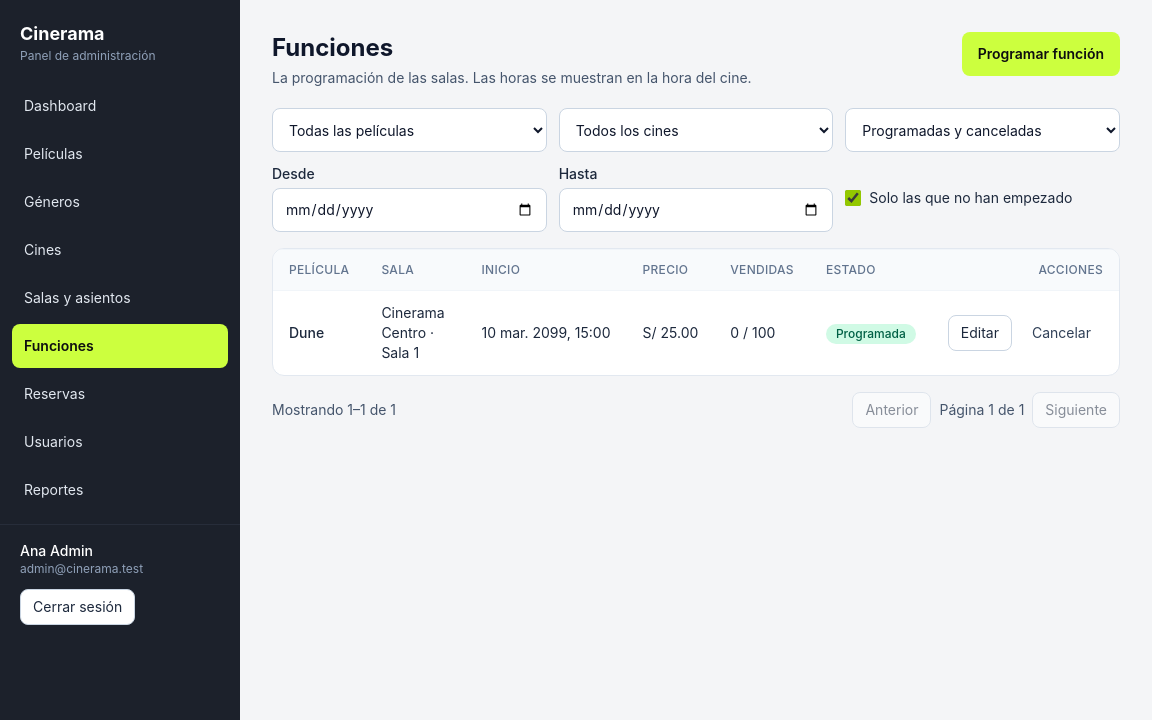
Test: Funciones › "Cancelar" del diálogo (volver) no cancela la función
This screenshot has width=1152, height=720.
Click the button with aria-label "Cancelar la función de Dune". click: (1062, 333)
box: [1020,315,1103,351]
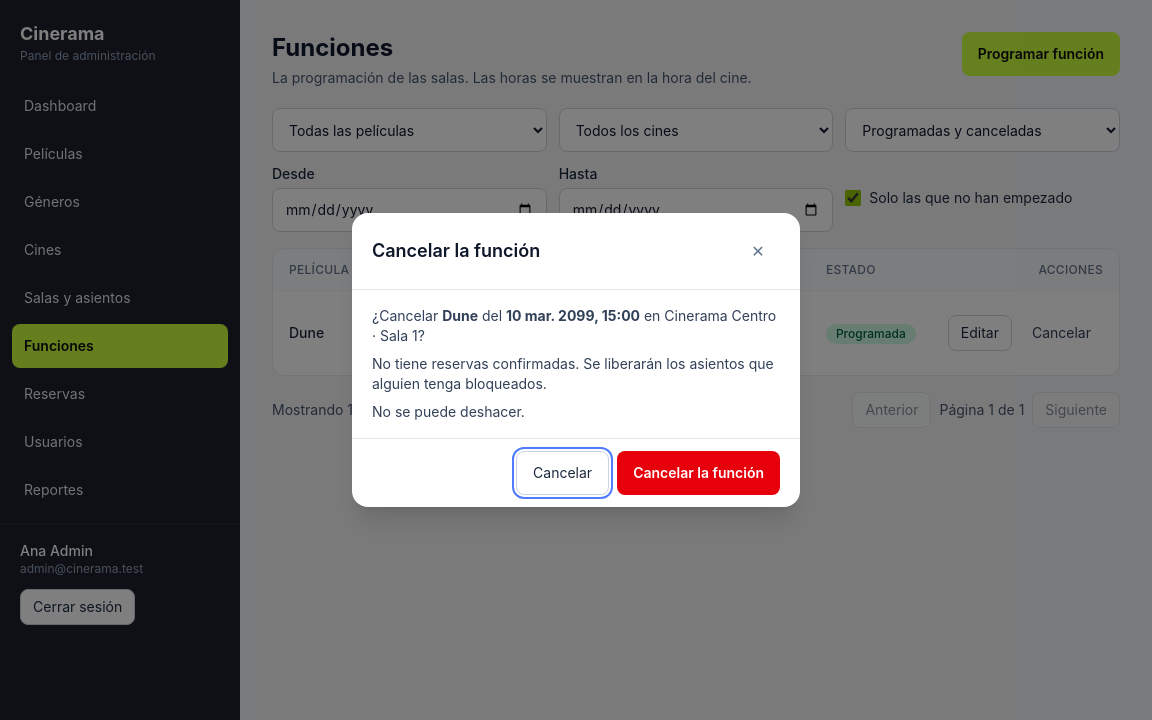
Click the button "Cancelar". click: (563, 473)
box: [516,451,609,495]
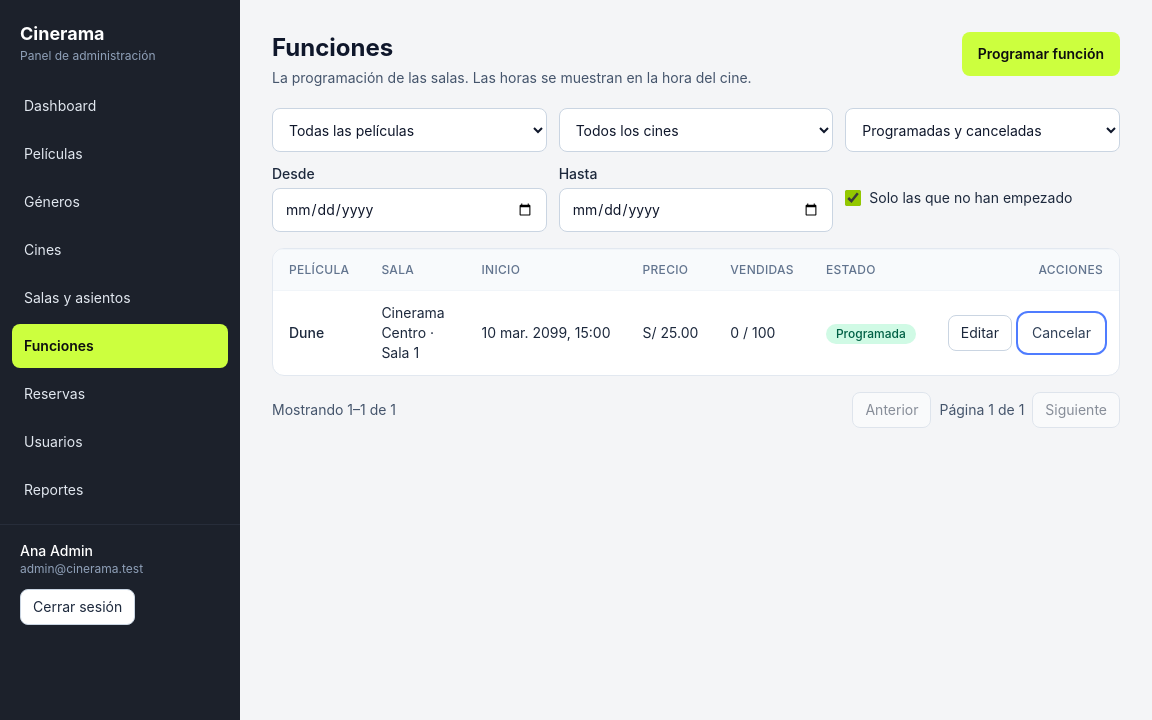
Expected: the dialog is gone
